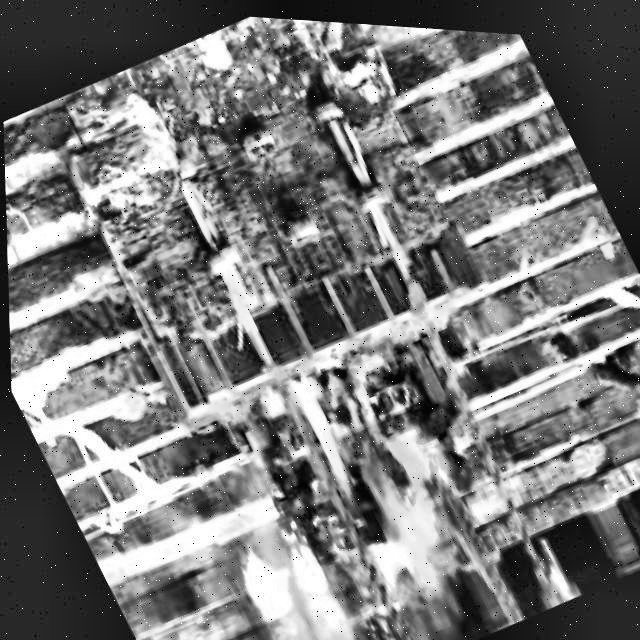Fire: (267, 331, 510, 640)
